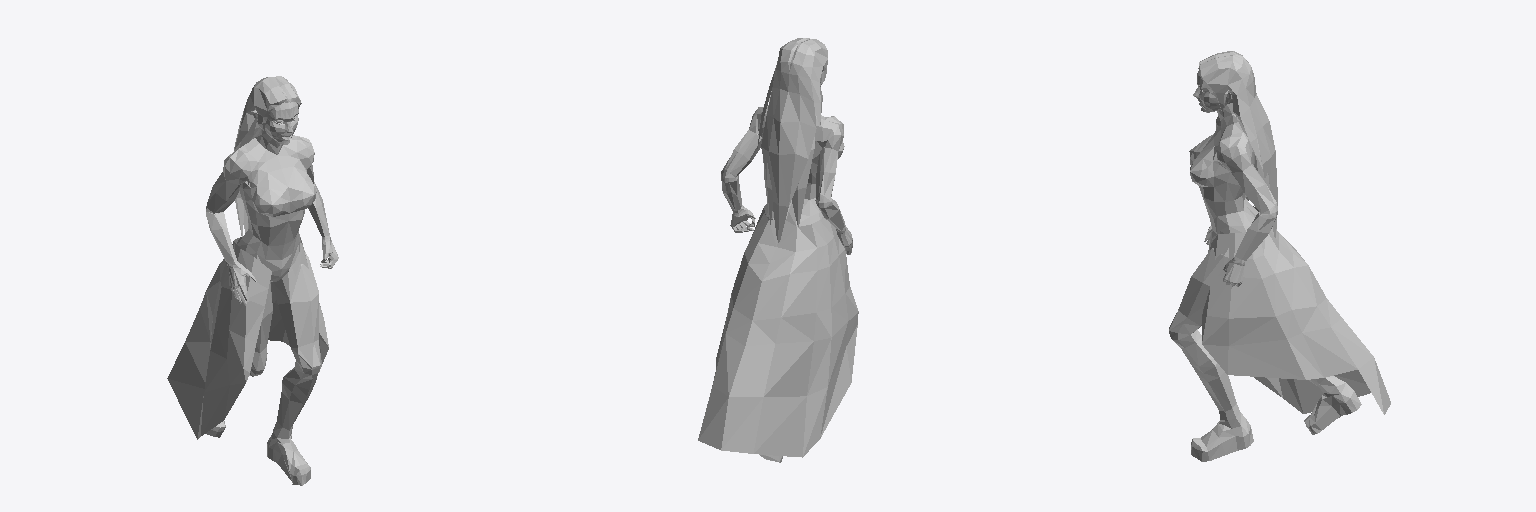
The model's file is running_004.obj.
The picture shows the model from 3 angles: view 1: azimuth 30°, elevation 25°; view 2: azimuth 150°, elevation 25°; view 3: azimuth 270°, elevation 25°; orthographic projection.
Visible parts, largest first — view 1: Plane.001_Plane.007, Plane.003_Plane.008, capelli.001_Plane.006; view 2: Plane.003_Plane.008, capelli.001_Plane.006, Plane.001_Plane.007; view 3: Plane.003_Plane.008, Plane.001_Plane.007, capelli.001_Plane.006.
Part boxes in pixels (x1,y1,x2,y2): Plane.001_Plane.007: (206, 85, 338, 485); Plane.003_Plane.008: (167, 237, 328, 439); capelli.001_Plane.006: (234, 76, 301, 236); Plane.003_Plane.008: (698, 204, 858, 457); capelli.001_Plane.006: (757, 38, 827, 242); Plane.001_Plane.007: (721, 74, 852, 462); Plane.003_Plane.008: (1202, 206, 1390, 414); Plane.001_Plane.007: (1169, 57, 1361, 461); capelli.001_Plane.006: (1198, 51, 1277, 237).
Size of the model in its own units: 1.62 by 5.32 by 2.71.